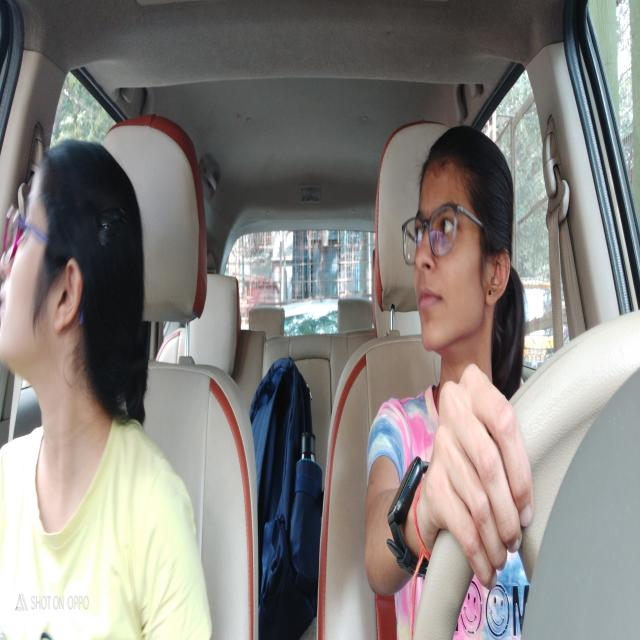LeftRight: (406, 124, 519, 361)
person: (1, 128, 134, 396)
